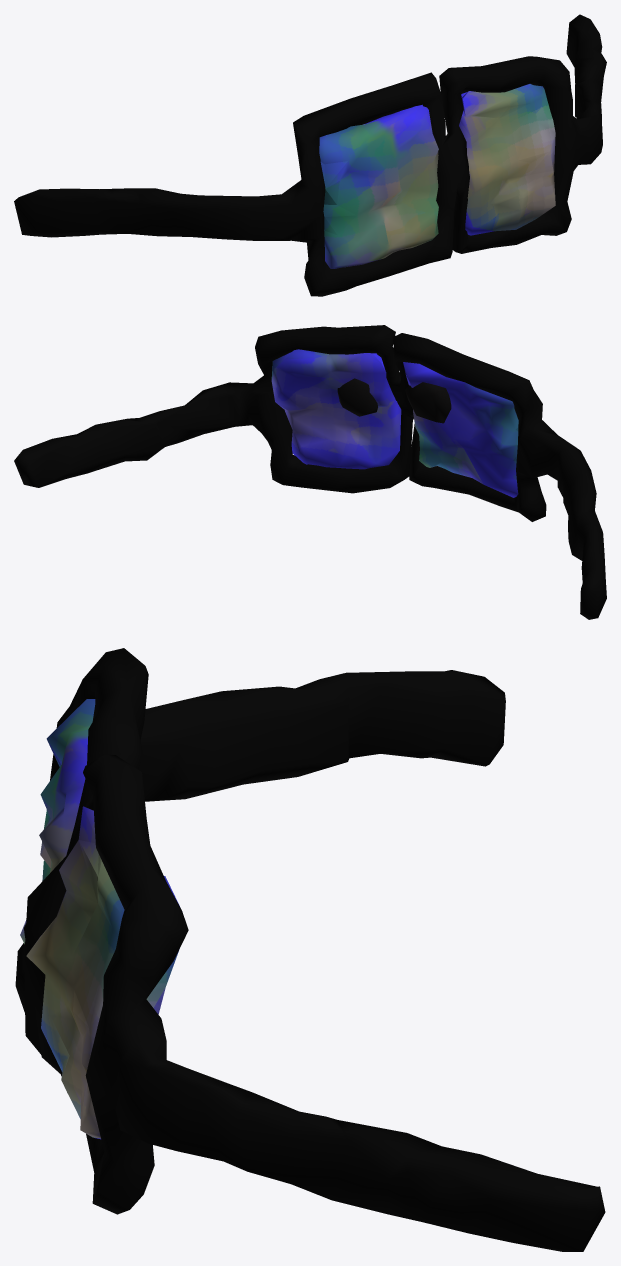
The model's file is trippy shades.glb.
The picture shows the model from 3 angles, top to bottom: view 1: azimuth 30°, elevation 25°; view 2: azimuth 150°, elevation 25°; view 3: azimuth 270°, elevation 25°; orthographic projection. The views are drawn at different scales.
Visible parts, largest first — view 1: eyes_glasses_shades_s34n.001; view 2: eyes_glasses_shades_s34n.001; view 3: eyes_glasses_shades_s34n.001.
Boxes of the visible parts, <box> form: eyes_glasses_shades_s34n.001: <box>14,14,606,296</box>; eyes_glasses_shades_s34n.001: <box>14,325,606,619</box>; eyes_glasses_shades_s34n.001: <box>15,648,605,1251</box>.
Bounding box in the file's own units: 0.3251 × 0.1009 × 0.1484.
3 materials, 3 textured.
